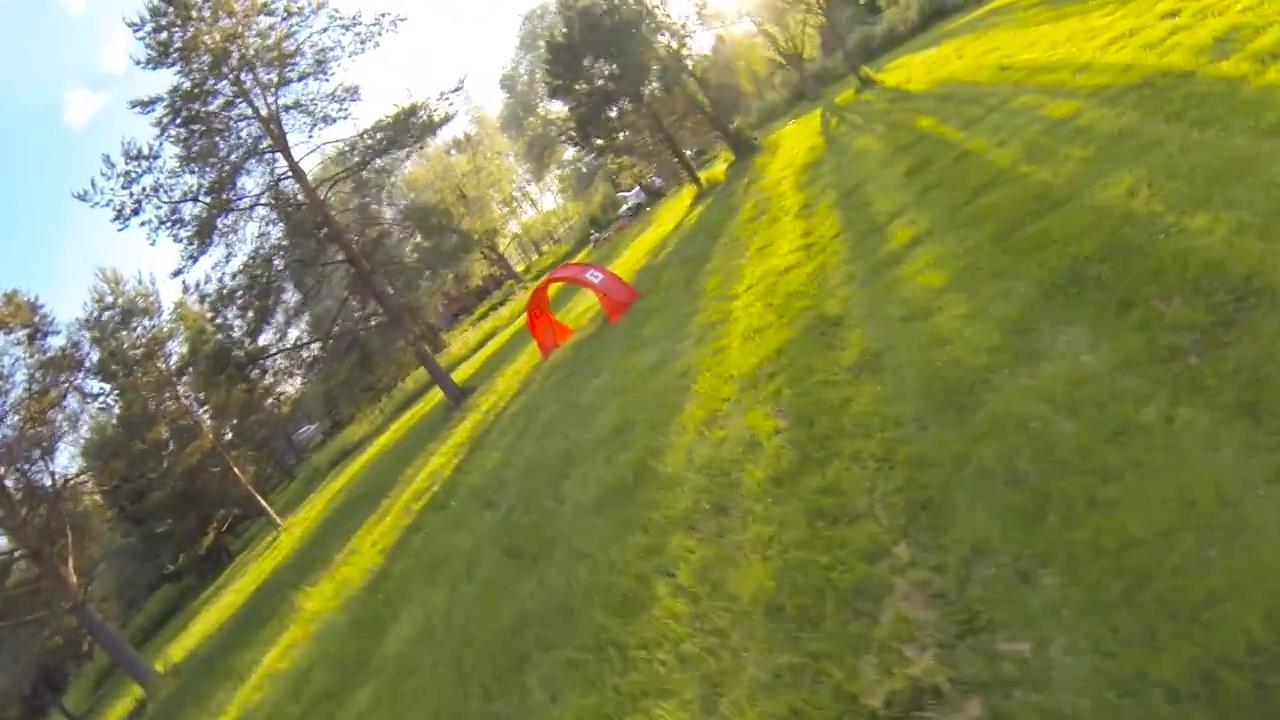gate: (522, 260, 641, 359)
